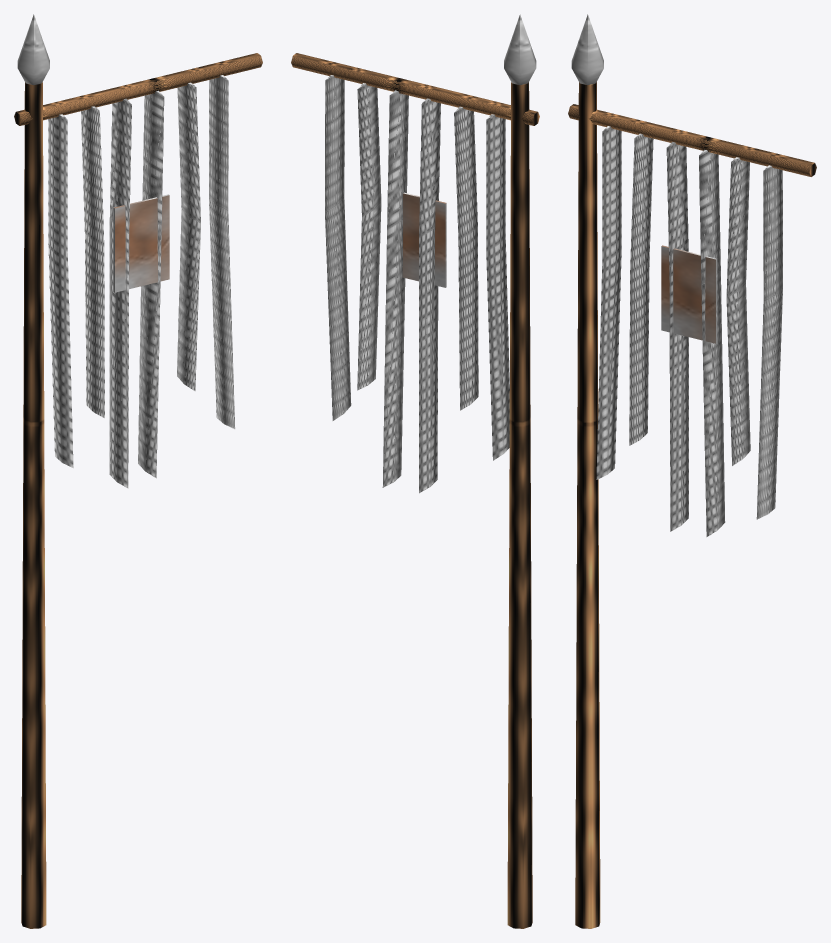
Rendered from banner.obj.
The picture shows the model from 3 angles, left to right: view 1: azimuth 30°, elevation 25°; view 2: azimuth 150°, elevation 25°; view 3: azimuth 330°, elevation 25°; orthographic projection.
Bounding box in the file's own units: 1.5 × 5.4 × 0.3533.
3 materials, 3 textured.
